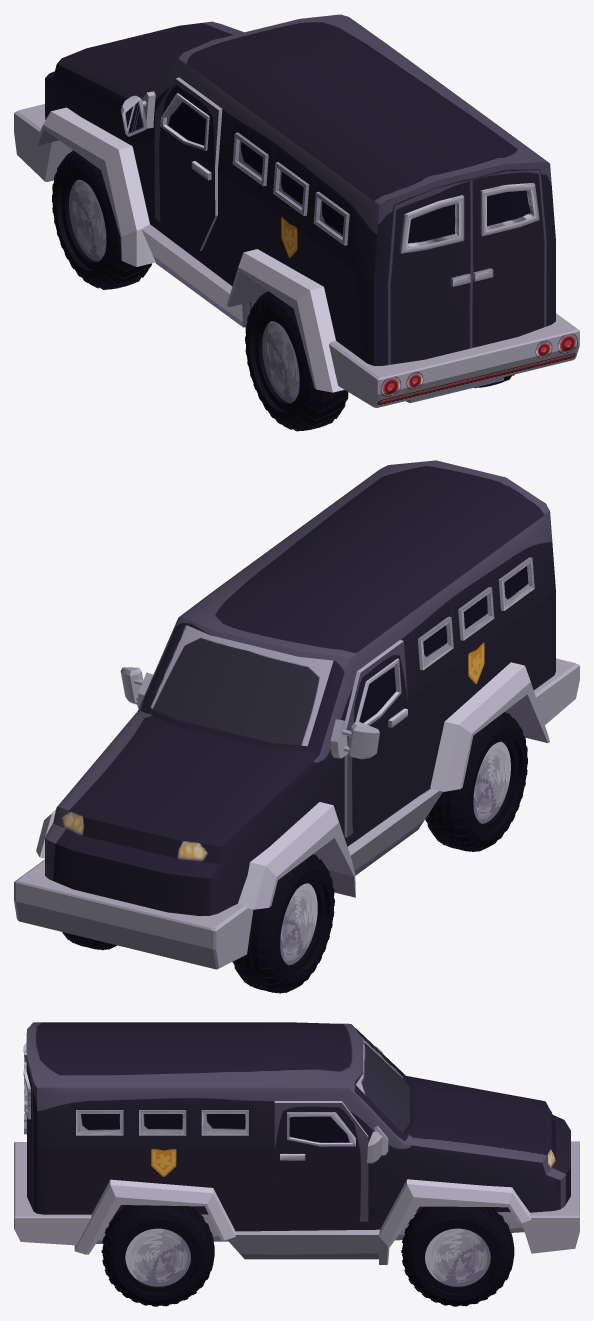
The model's file is PoliceSwatVanBeter.fbx.
The picture shows the model from 3 angles, top to bottom: view 1: azimuth 30°, elevation 25°; view 2: azimuth 150°, elevation 25°; view 3: azimuth 270°, elevation 25°; orthographic projection. The views are drawn at different scales.
Parts seen in each view (by area): view 1: body, wielen; view 2: body, wielen; view 3: body, wielen.
Boxes of the visible parts, x1=… form: body: x1=14, y1=14, x2=579, y2=407; wielen: x1=52, y1=150, x2=514, y2=431; body: x1=14, y1=460, x2=579, y2=969; wielen: x1=62, y1=712, x2=527, y2=993; body: x1=14, y1=1022, x2=579, y2=1264; wielen: x1=101, y1=1205, x2=514, y2=1306.
Bounding box in the file's own units: 148 × 160 × 362.
